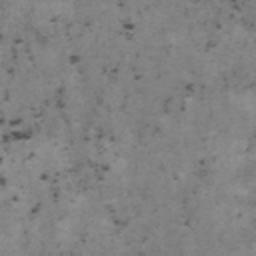Oxide scale of temperature system: (0, 14, 206, 216), (204, 0, 256, 54), (114, 0, 136, 41), (110, 214, 133, 236), (243, 79, 256, 90), (197, 156, 206, 168), (183, 214, 191, 227), (136, 250, 147, 256), (133, 74, 141, 82), (110, 67, 119, 73)
